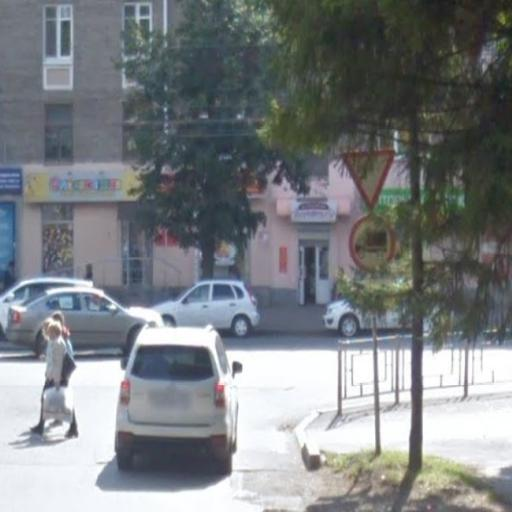traffic_sign: (340, 146, 399, 215), (347, 209, 400, 280)
